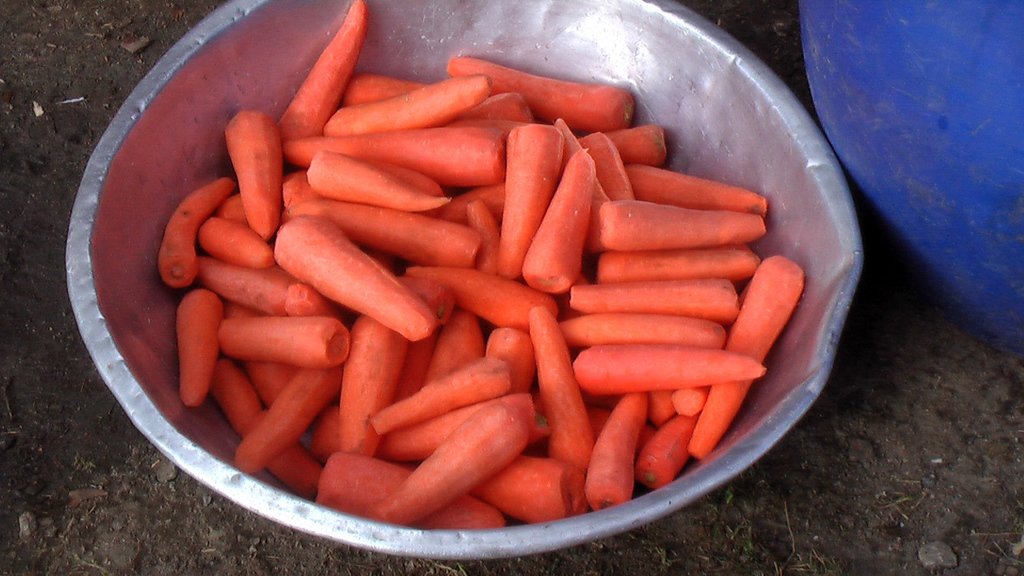Carrot: (157, 0, 804, 529)
